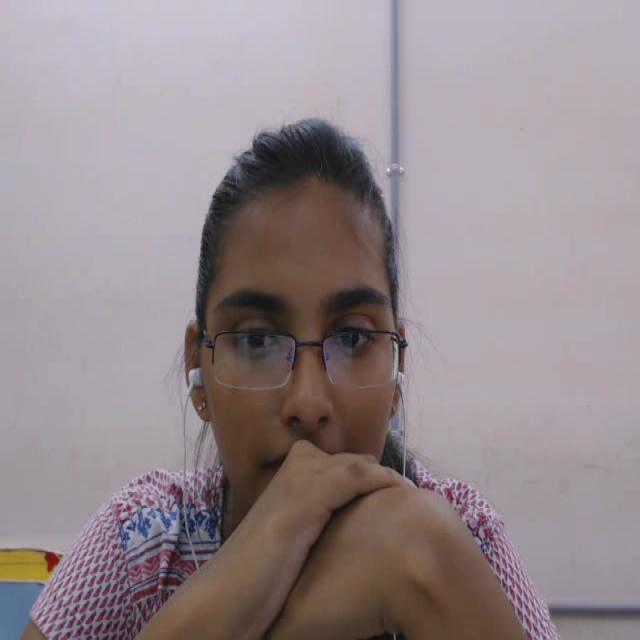Bored: (155, 103, 478, 570)
